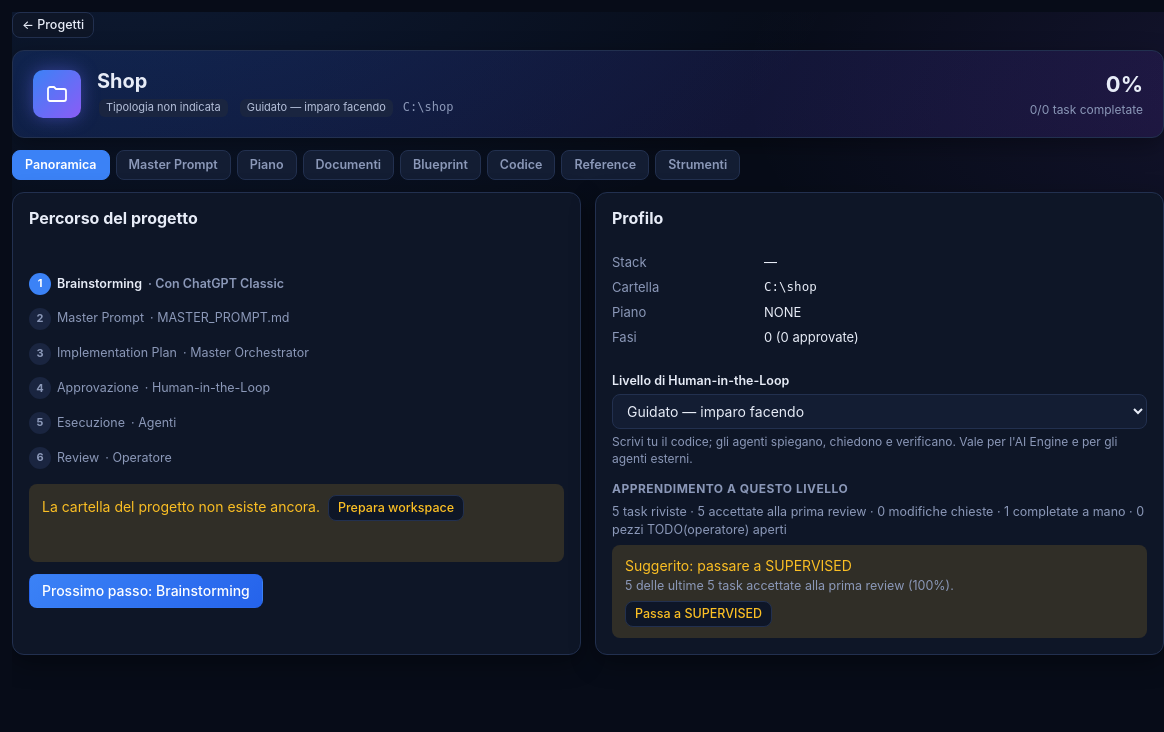
Panoramica — learning and the suggested level (TD-45) › shows the metrics and applies the suggested level only when the operator asks
This screenshot has width=1164, height=732.
Expected: the text "Suggerito: passare a SUPERVISED" is shown, [625, 557, 852, 574]
Expected: the text "5 task riviste · 5 accettate alla prima review" is shown, [612, 503, 1147, 539]
Click the button "Passa a SUPERVISED" at [699, 614], box [625, 601, 772, 627]
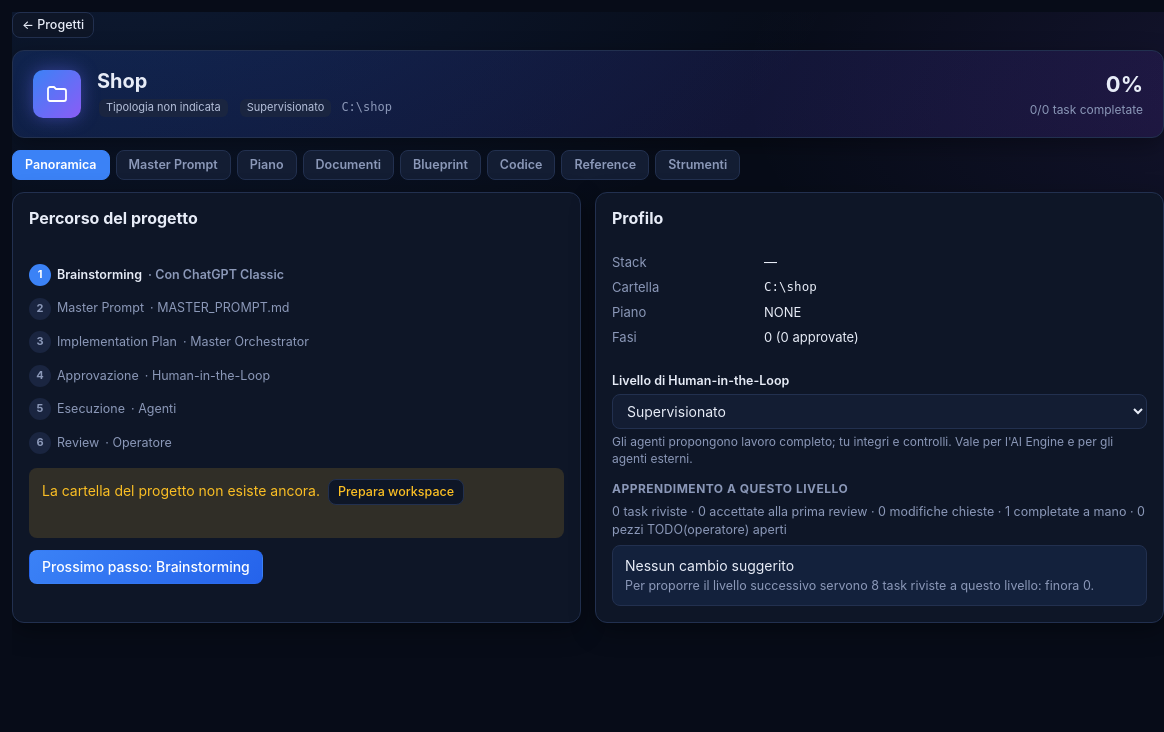
Expected: the text "Nessun cambio suggerito" is shown, [625, 557, 794, 574]
